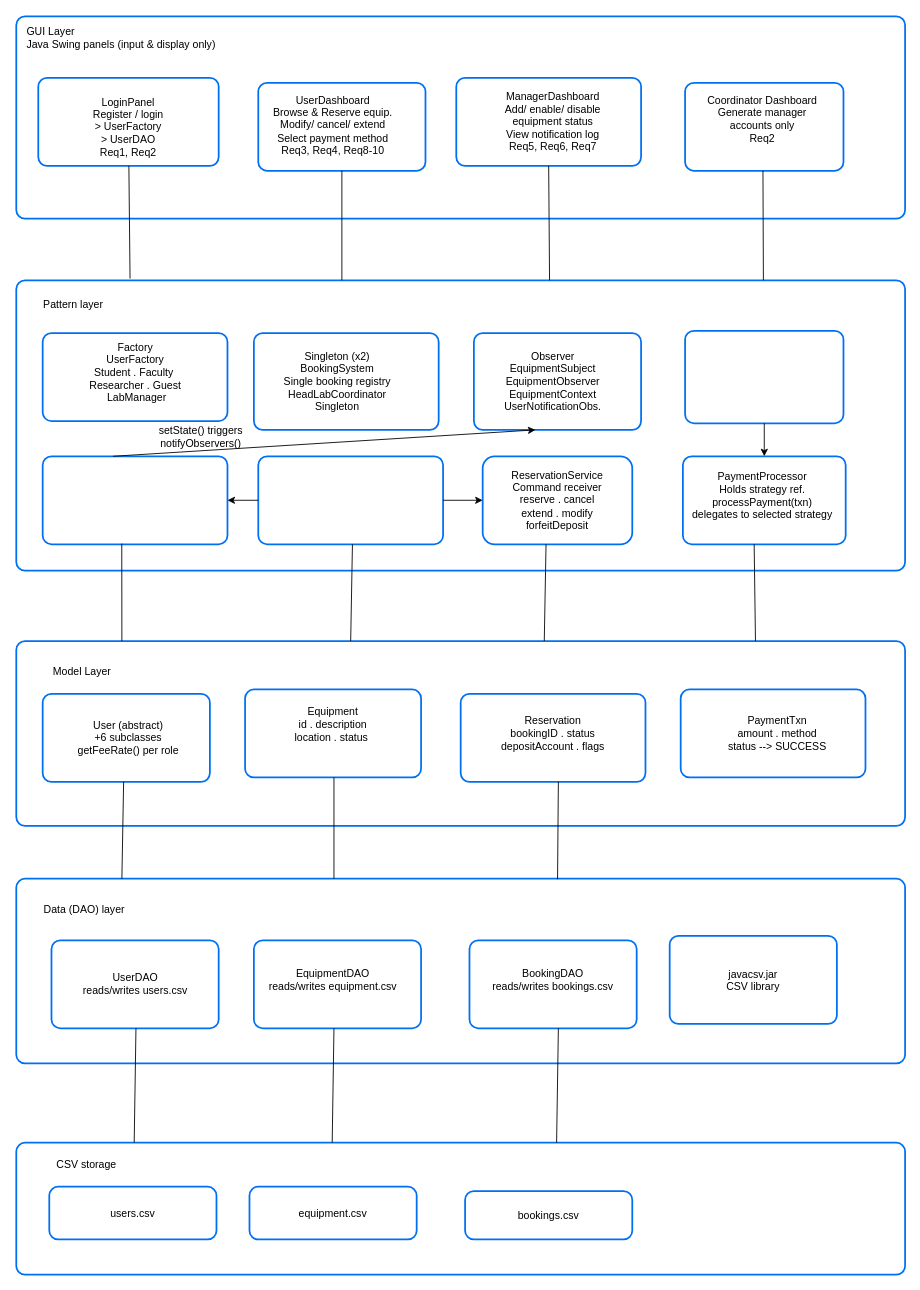
This 920x1290 diagram has some shape labels left out. The centre of each missing label's shape, as x and y in pixels:
Command Reseve Command CancelCommand ExtendCommand ForfeitDeposite . Modify: [350,500]
State EquipmentState AvailableState DisabledState MaintenanceState: [134,500]
Strategy PaymentStrategy CreditCardPayment DebitPayment Institutional (Grant): [764,377]
